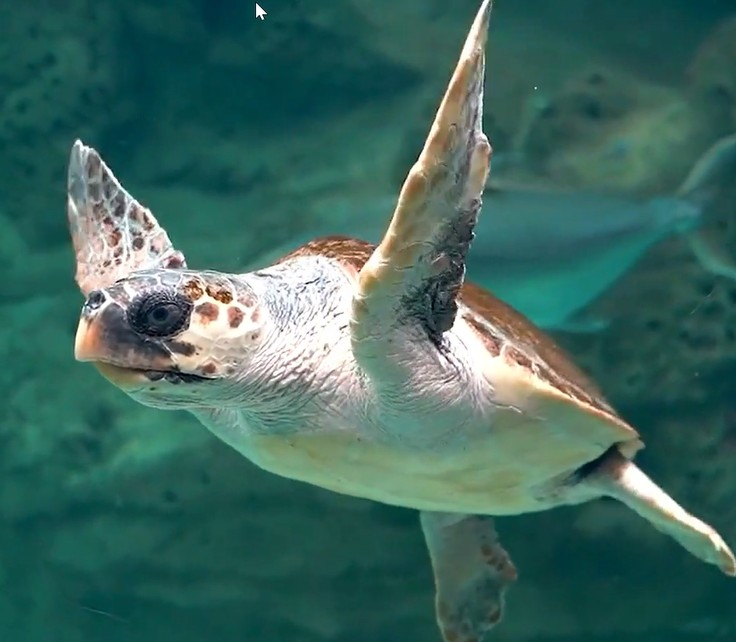seaturtle: (64, 14, 730, 631)
